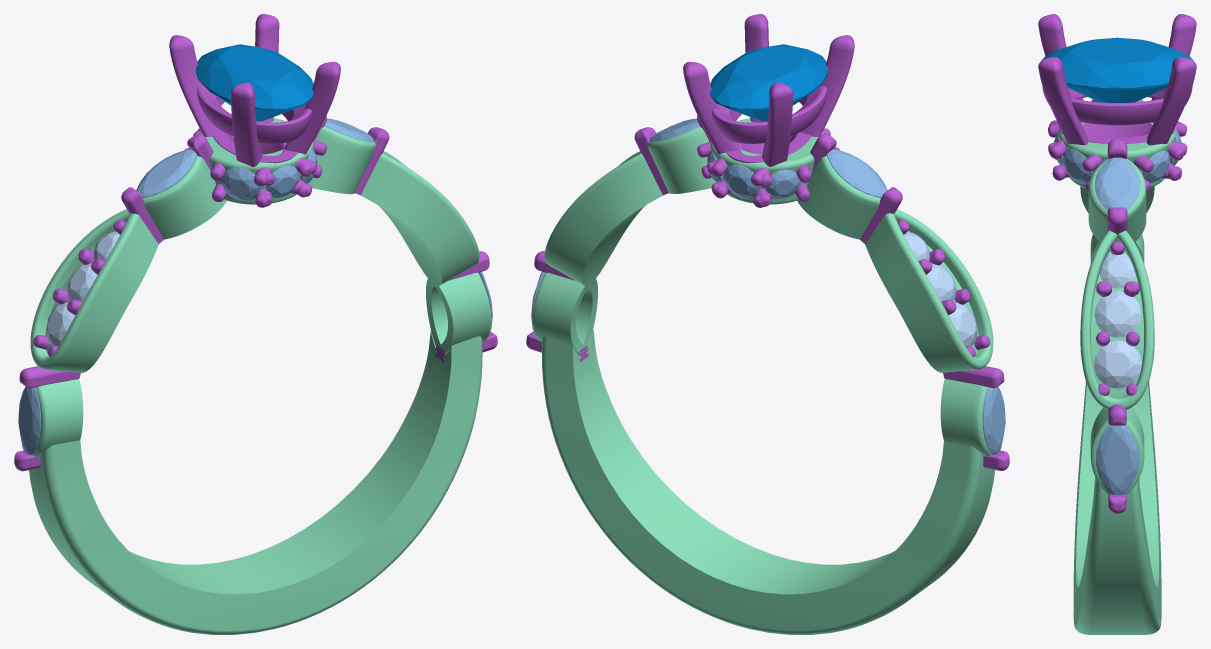
3 renders of one model, left to right at view 1: azimuth 30°, elevation 25°; view 2: azimuth 150°, elevation 25°; view 3: azimuth 270°, elevation 25°, orthographic.
Parts seen in each view (by area): view 1: ref20_4esme maquiz_ 6esme redondas_1diaman central28puntos_6, Head Prong (×7), Diamond_Oval, Diamond_Round (×4), Head Rail (×2), Diamond_Marquise (×2); view 2: ref20_4esme maquiz_ 6esme redondas_1diaman central28puntos_6, Head Prong (×7), Diamond_Oval, Head Rail (×2), Diamond_Round (×4), Diamond_Marquise (×2); view 3: ref20_4esme maquiz_ 6esme redondas_1diaman central28puntos_6, Head Prong (×8), Diamond_Oval, Diamond_Round (×5), Diamond_Marquise (×2), Head Rail (×2), Prong (×2).
Boxes of the visible parts, x1,y1,x2,y2 form: ref20_4esme maquiz_ 6esme redondas_1diaman central28puntos_6: [29, 118, 491, 634]; Head Prong (×7): [19, 14, 389, 388]; Diamond_Oval: [196, 44, 313, 121]; Diamond_Round (×4): [46, 165, 299, 346]; Head Rail (×2): [197, 86, 311, 163]; Diamond_Marquise (×2): [18, 149, 196, 455]; ref20_4esme maquiz_ 6esme redondas_1diaman central28puntos_6: [532, 118, 994, 634]; Head Prong (×7): [634, 14, 1004, 388]; Diamond_Oval: [710, 44, 827, 121]; Head Rail (×2): [712, 86, 826, 163]; Diamond_Round (×4): [724, 164, 977, 346]; Diamond_Marquise (×2): [827, 149, 1005, 455]; ref20_4esme maquiz_ 6esme redondas_1diaman central28puntos_6: [1058, 99, 1176, 634]; Head Prong (×8): [1038, 14, 1196, 513]; Diamond_Oval: [1041, 37, 1193, 102]; Diamond_Round (×5): [1063, 148, 1170, 388]; Diamond_Marquise (×2): [1094, 157, 1140, 494]; Head Rail (×2): [1042, 86, 1192, 143]; Prong (×2): [1082, 154, 1153, 172].
Bounding box in the file's own units: 2.61 × 2.94 × 0.7368.
